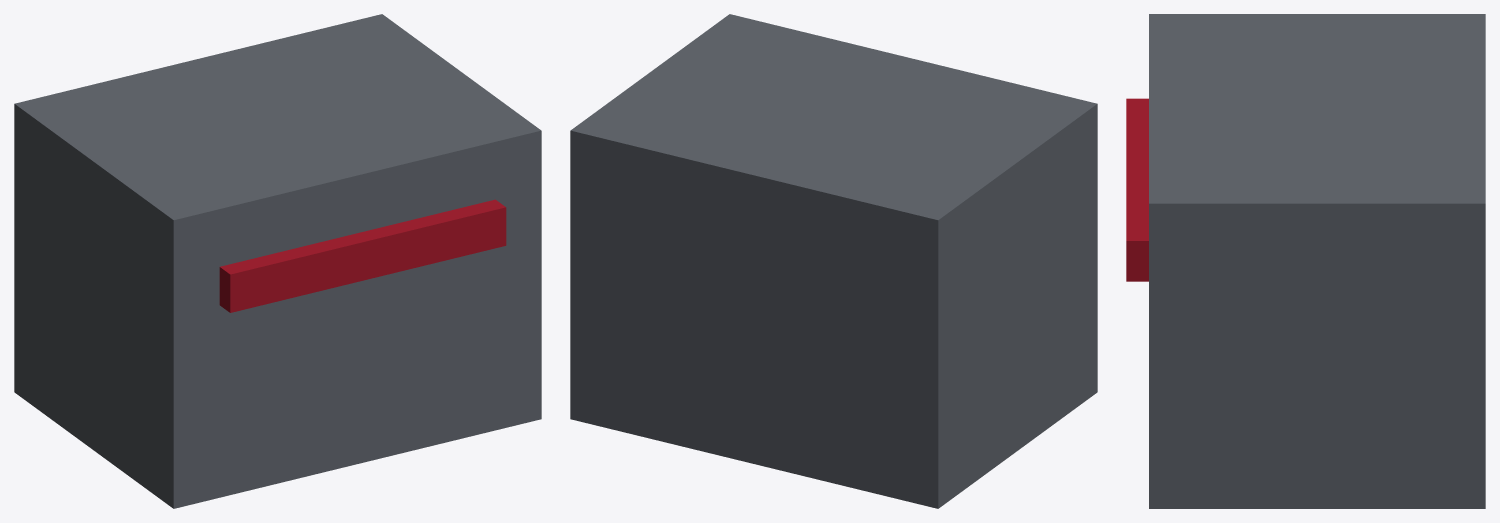
File: billboard.glb
3 views of the same model, side by side, from view 1: azimuth 30°, elevation 25°; view 2: azimuth 150°, elevation 25°; view 3: azimuth 270°, elevation 25° (orthographic). The views are drawn at different scales.
Visible parts, largest first — view 1: part_0, part_1; view 2: part_0; view 3: part_0, part_1.
Boxes of the visible parts, x1,y1,x2,y2 form: part_0: [14, 14, 541, 508]; part_1: [219, 199, 506, 312]; part_0: [570, 14, 1097, 508]; part_0: [1149, 14, 1485, 508]; part_1: [1126, 98, 1148, 281].
Size of the model in its own units: 2 by 1.5 by 1.6.
